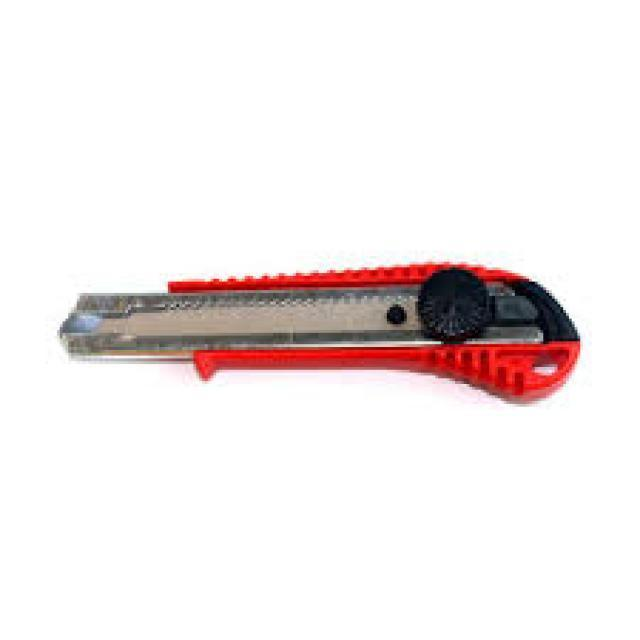cutter: (48, 237, 584, 425)
